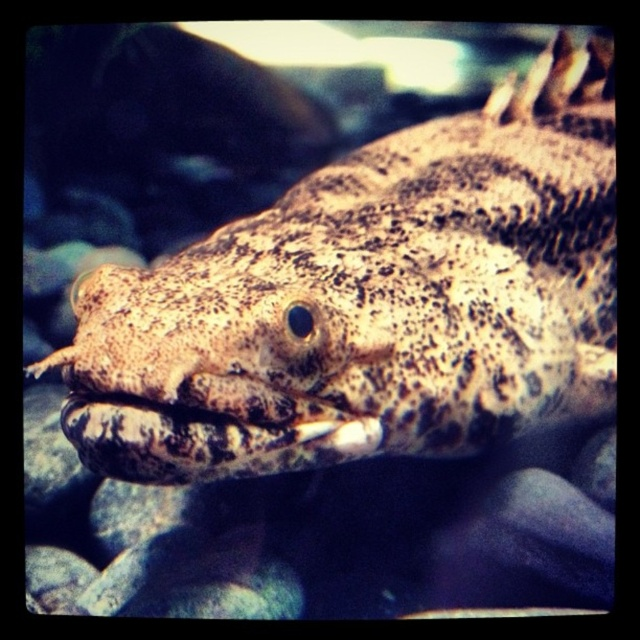Fish: (82, 101, 623, 463)
